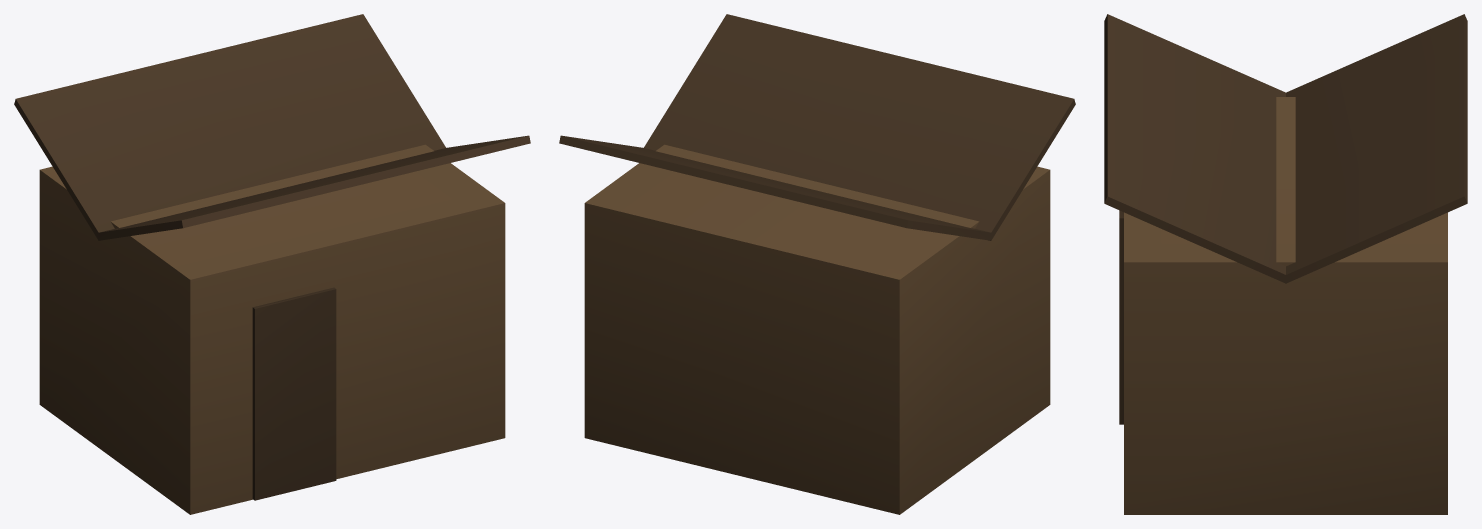
The model's file is struct_shed.glb.
3 renders of one model, left to right at view 1: azimuth 30°, elevation 25°; view 2: azimuth 150°, elevation 25°; view 3: azimuth 270°, elevation 25°, orthographic. The views are drawn at different scales.
Parts seen in each view (by area): view 1: walls, roof, door; view 2: walls, roof; view 3: walls, roof, door.
Boxes of the visible parts, x1=… form: walls: x1=39, y1=144, x2=505, y2=514; roof: x1=14, y1=14, x2=530, y2=240; door: x1=252, y1=287, x2=336, y2=500; walls: x1=584, y1=144, x2=1050, y2=514; roof: x1=559, y1=14, x2=1075, y2=240; walls: x1=1124, y1=97, x2=1447, y2=514; roof: x1=1104, y1=14, x2=1467, y2=283; door: x1=1119, y1=210, x2=1123, y2=424.
Size of the model in its own units: 2.94 by 2.46 by 2.48.
